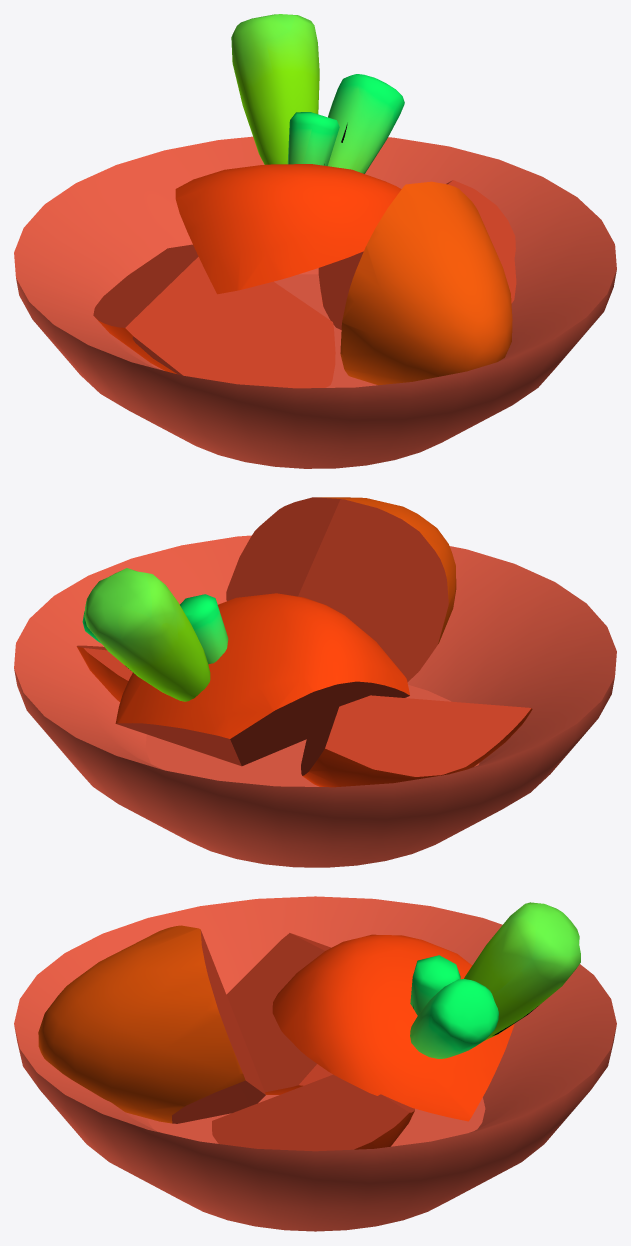
File: GORENG.fbx
The picture shows the model from 3 angles, top to bottom: view 1: azimuth 30°, elevation 25°; view 2: azimuth 150°, elevation 25°; view 3: azimuth 270°, elevation 25°; orthographic projection.
Parts seen in each view (by area): view 1: Cylinder.006, Cube_cell.017, Cube_cell.012, Cube_cell.002, Cube.005, Cube.004, Cube_cell.016, Cube.006; view 2: Cylinder.006, Cube_cell.002, Cube_cell.017, Cube_cell.012, Cube.005, Cube.006, Cube_cell.016; view 3: Cylinder.006, Cube_cell.017, Cube_cell.002, Cube_cell.016, Cube.005, Cube_cell.012, Cube.004, Cube.006.
Boxes of the visible parts, box(x1,y1,x2,y2) form: Cylinder.006: box(14, 136, 616, 468); Cube_cell.017: box(340, 181, 512, 385); Cube_cell.012: box(93, 244, 335, 388); Cube_cell.002: box(175, 164, 401, 294); Cube.005: box(231, 14, 319, 164); Cube.004: box(328, 74, 404, 173); Cube_cell.016: box(318, 180, 516, 329); Cube.006: box(287, 112, 339, 165); Cylinder.006: box(14, 535, 616, 867); Cube_cell.002: box(115, 593, 409, 766); Cube_cell.017: box(226, 497, 456, 682); Cube_cell.012: box(301, 695, 532, 787); Cube.005: box(84, 568, 210, 701); Cube.006: box(180, 594, 228, 664); Cube_cell.016: box(76, 645, 132, 701); Cylinder.006: box(14, 896, 616, 1231); Cube_cell.017: box(38, 925, 265, 1123); Cube_cell.002: box(272, 934, 514, 1121); Cube_cell.016: box(212, 1074, 414, 1151); Cube.005: box(464, 902, 580, 1040); Cube_cell.012: box(226, 933, 332, 1094); Cube.004: box(410, 979, 498, 1058); Cube.006: box(410, 955, 460, 1015).
Size of the model in its own units: 342 by 182 by 342.
6 materials, 4 textured.
